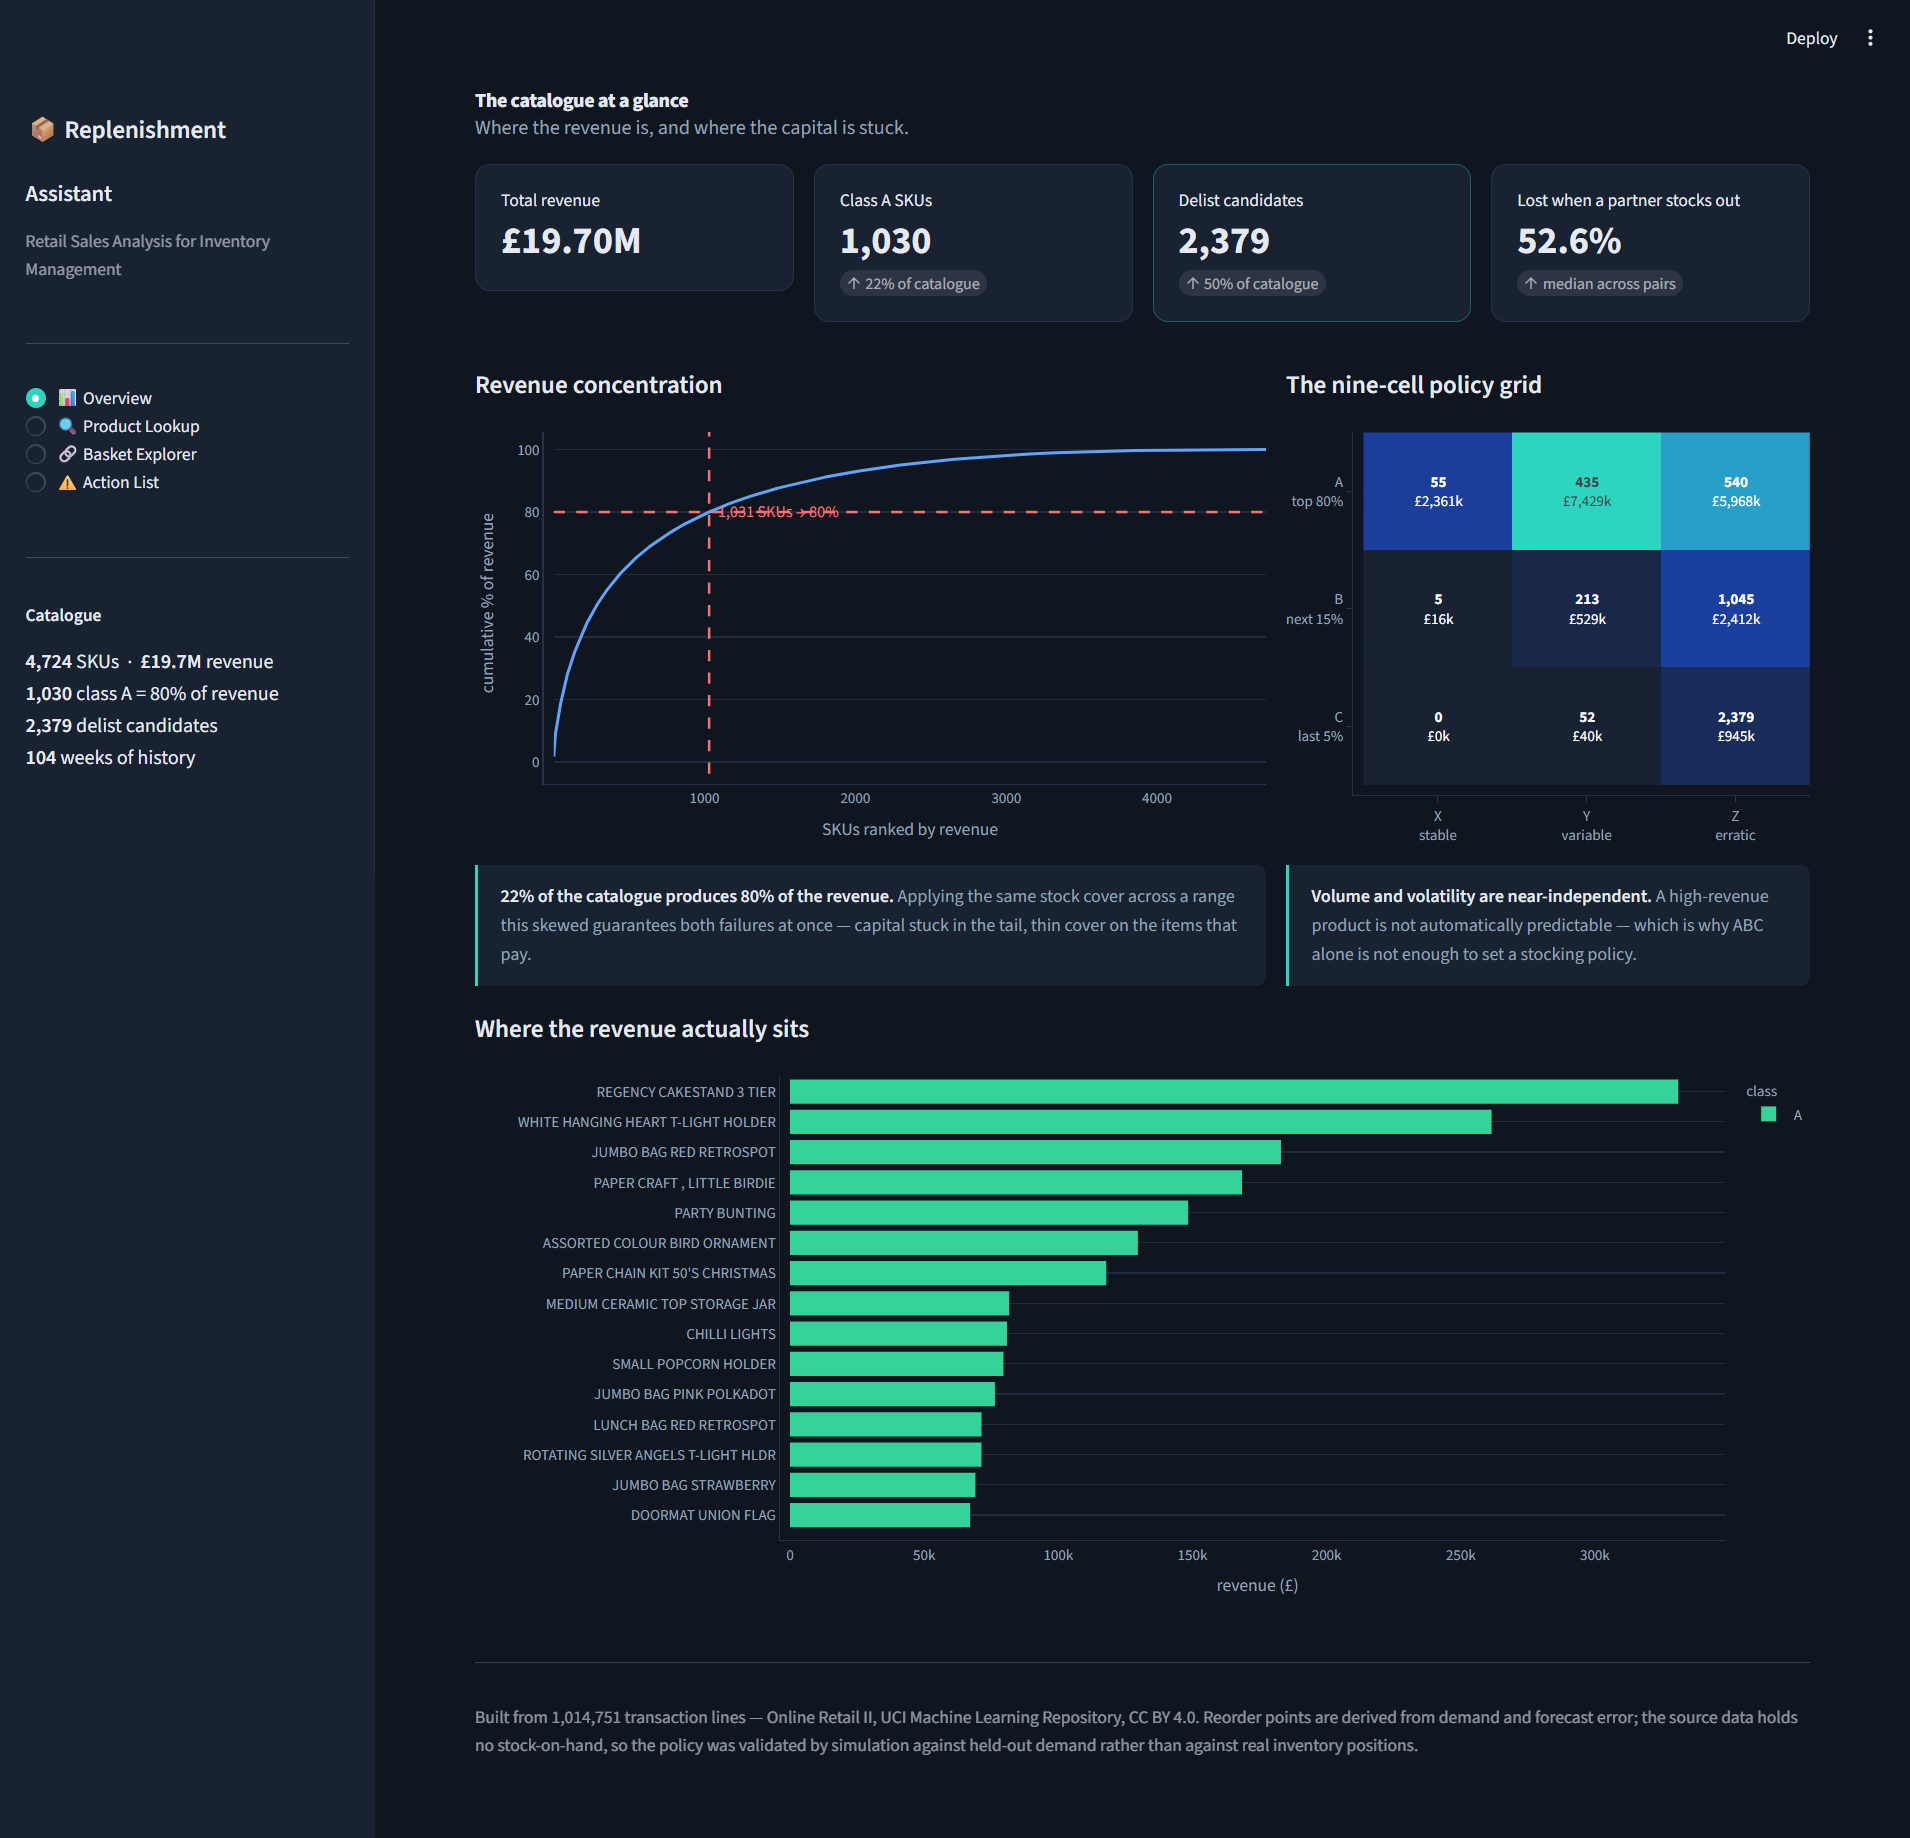

What the dashboard file says about the page in this screenshot:
{"tool":"powerbi","page":{"name":"Where the money is","canvas":[1280,720],"ordinal":0},"visuals":[{"type":"cardVisual","fields":{"Data":["Max(kpi_cards.value)"]},"box":[763.8,0.6,256,131.7],"z":0},{"type":"cardVisual","fields":{"Data":["Max(kpi_cards.value)"]},"box":[4.5,0.6,256,131.7],"z":1000},{"type":"cardVisual","fields":{"Data":["Max(kpi_cards.value)"]},"box":[1016.9,0.6,256,131.7],"z":2000},{"type":"cardVisual","fields":{"Data":["Max(kpi_cards.value)"]},"box":[257.6,0.6,256,131.7],"z":3000},{"type":"cardVisual","fields":{"Data":["Max(kpi_cards.value)"]},"box":[510.7,0.6,256,131.7],"z":4000},{"type":"lineChart","fields":{"Category":["dim_product.revenue_rank"],"Y":["Avg(dim_product.cumulative_revenue_pct)"]},"box":[0,131.8,660.5,587.6],"z":5000},{"type":"pivotTable","fields":{"Rows":["summary_abc_xyz.ABC"],"Columns":["summary_abc_xyz.XYZ"],"Values":["Sum(summary_abc_xyz.skus)","Sum(summary_abc_xyz.revenue)"]},"box":[660.5,131.8,601.6,171.1],"z":6000},{"type":"lineChart","fields":{"Category":["summary_monthly.month.Variation.Date Hierarchy.Year","summary_monthly.month.Variation.Date Hierarchy.Quarter","summary_monthly.month.Variation.Date Hierarchy.Month","summary_monthly.month.Variation.Date Hierarchy.Day"],"Y":["Sum(summary_monthly.revenue)"],"Series":["summary_monthly.ABC"]},"box":[660.5,302.9,619.8,286.1],"z":7000},{"type":"slicer","fields":{"Values":["dim_product.ABC"]},"box":[660.5,589,211.7,130.4],"z":8000},{"type":"slicer","fields":{"Values":["dim_product.XYZ"]},"box":[872.2,589,211.7,130.4],"z":9000},{"type":"slicer","fields":{"Values":["dim_product.class"]},"box":[1084,589,196.3,130.4],"z":10000}]}

Visuals, with their boxes on the page's 1280x720 design canvas (x1, y1, x2, y2). These are canvas units, not pixel positions in the 1910x1838 screenshot, which may show the page scaled, cropped or inside an application window:
cardVisual - Max(kpi_cards.value): (x1=764, y1=1, x2=1020, y2=132)
cardVisual - Max(kpi_cards.value): (x1=4, y1=1, x2=260, y2=132)
cardVisual - Max(kpi_cards.value): (x1=1017, y1=1, x2=1273, y2=132)
cardVisual - Max(kpi_cards.value): (x1=258, y1=1, x2=514, y2=132)
cardVisual - Max(kpi_cards.value): (x1=511, y1=1, x2=767, y2=132)
lineChart - dim_product.revenue_rank x Avg(dim_product.cumulative_revenue_pct): (x1=0, y1=132, x2=660, y2=719)
pivotTable - summary_abc_xyz.ABC x summary_abc_xyz.XYZ: (x1=660, y1=132, x2=1262, y2=303)
lineChart - summary_monthly.month.Variation.Date Hierarchy.Year x summary_monthly.month.Variation.Date Hierarchy.Quarter: (x1=660, y1=303, x2=1280, y2=589)
slicer - dim_product.ABC: (x1=660, y1=589, x2=872, y2=719)
slicer - dim_product.XYZ: (x1=872, y1=589, x2=1084, y2=719)
slicer - dim_product.class: (x1=1084, y1=589, x2=1280, y2=719)
